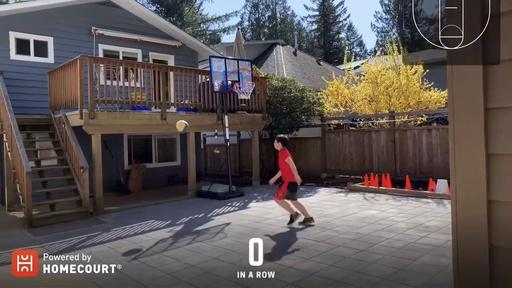ball: (175, 119, 190, 135)
human: (268, 134, 316, 227)
rim: (232, 81, 257, 101)
